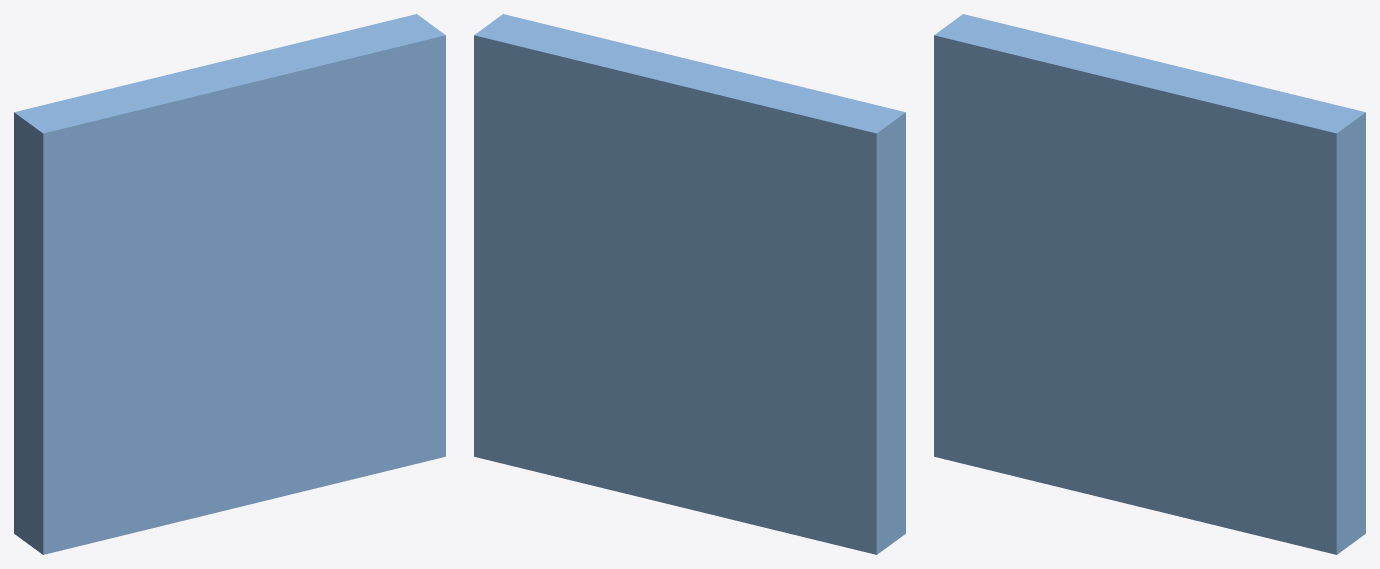
3 views of the same model, side by side, from view 1: azimuth 30°, elevation 25°; view 2: azimuth 150°, elevation 25°; view 3: azimuth 330°, elevation 25° (orthographic).
Size of the model in its own units: 8 by 8 by 1.
